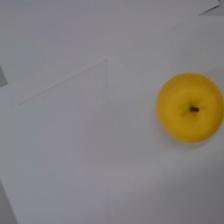yellow: (155, 71, 224, 143)
